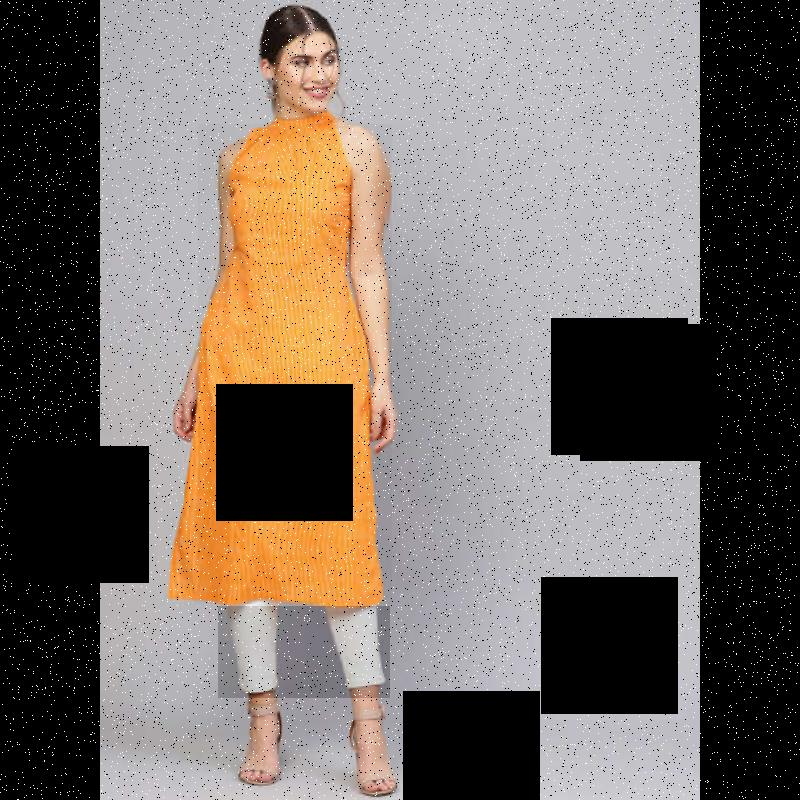Kurta: (198, 124, 392, 604)
Pant: (218, 606, 390, 698)
